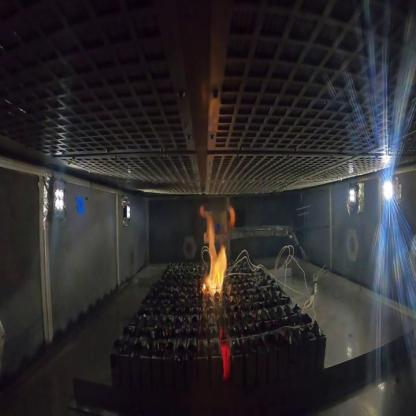fire: (195, 200, 237, 305)
